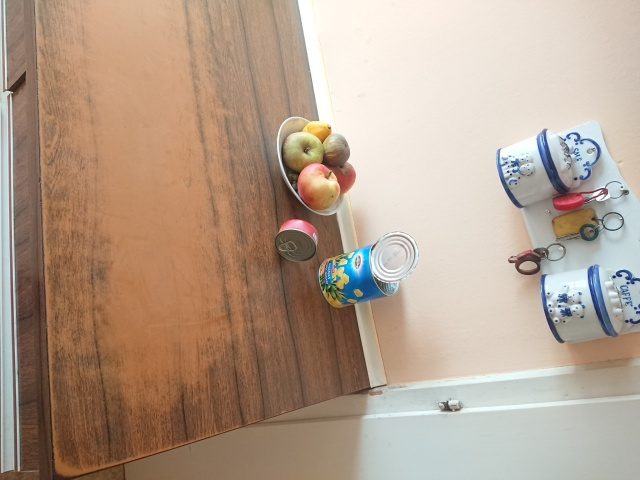Gavrilovic Pork Liver Pate 100g: (272, 217, 320, 263)
